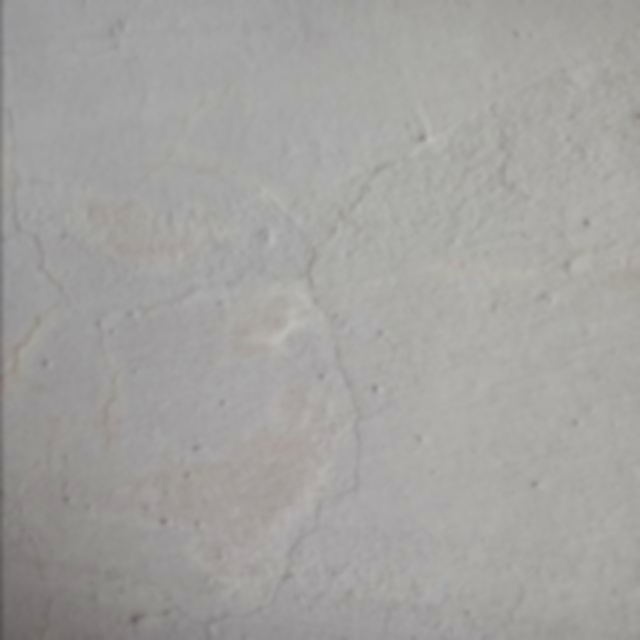SurfaceCrack: (220, 4, 434, 640)
